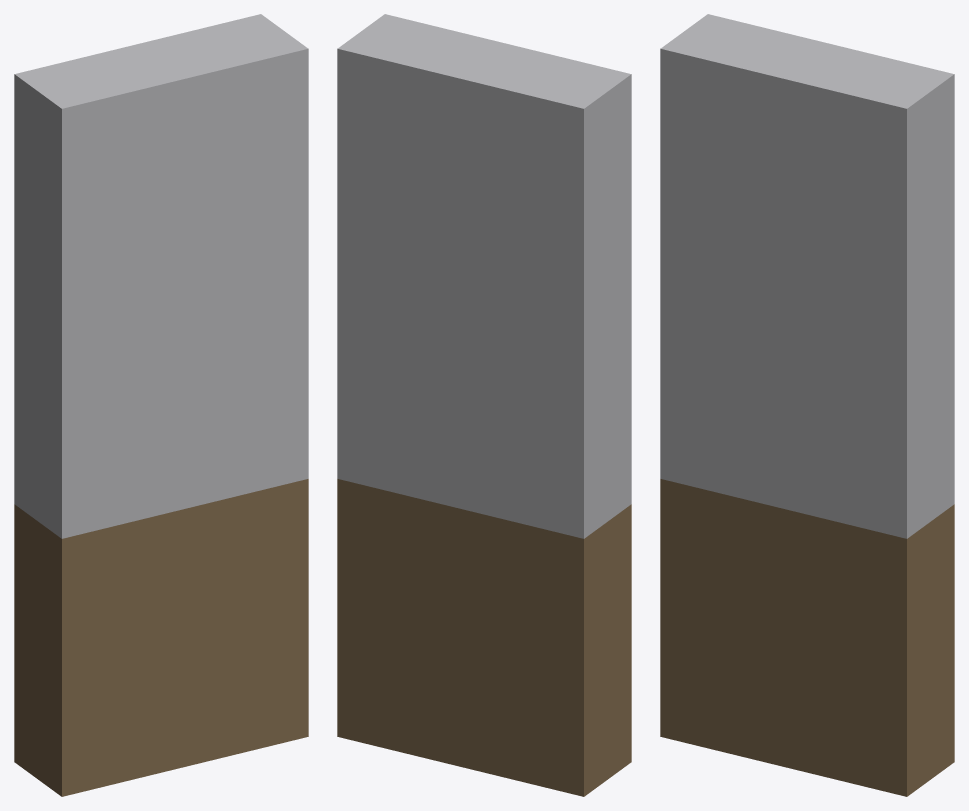
Rendered from cuchillo_cocina_01.glb.
3 views of the same model, side by side, from view 1: azimuth 30°, elevation 25°; view 2: azimuth 150°, elevation 25°; view 3: azimuth 330°, elevation 25° (orthographic).
Parts seen in each view (by area): view 1: cuchillo_cocina; view 2: cuchillo_cocina; view 3: cuchillo_cocina.
Boxes of the visible parts, <box> form: cuchillo_cocina: <box>14,14,308,796</box>; cuchillo_cocina: <box>337,14,631,796</box>; cuchillo_cocina: <box>660,14,954,796</box>.
Size of the model in its own units: 0.25 by 0.6667 by 0.0833.
